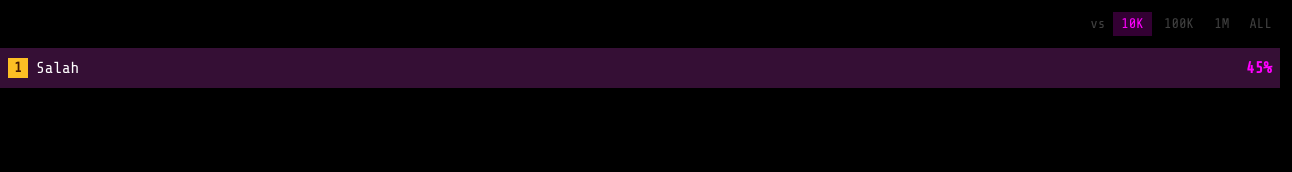
Test: CaptainBattle › allows switching between tiers
Expected: the text "45%" is shown, [1246,56,1272,80]
# Click on 100K tier button
What coordinates should you click on to do the following:
click the button "100K"
I would click on:
 (1179, 24)
Its box is [1156,12,1202,36].
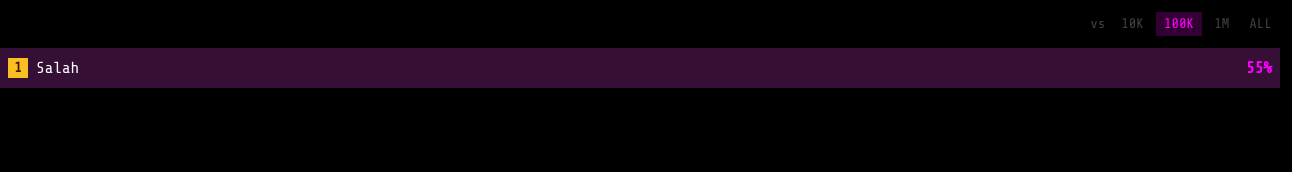
Result: the text "55%" is shown at [1246,56,1272,80]
